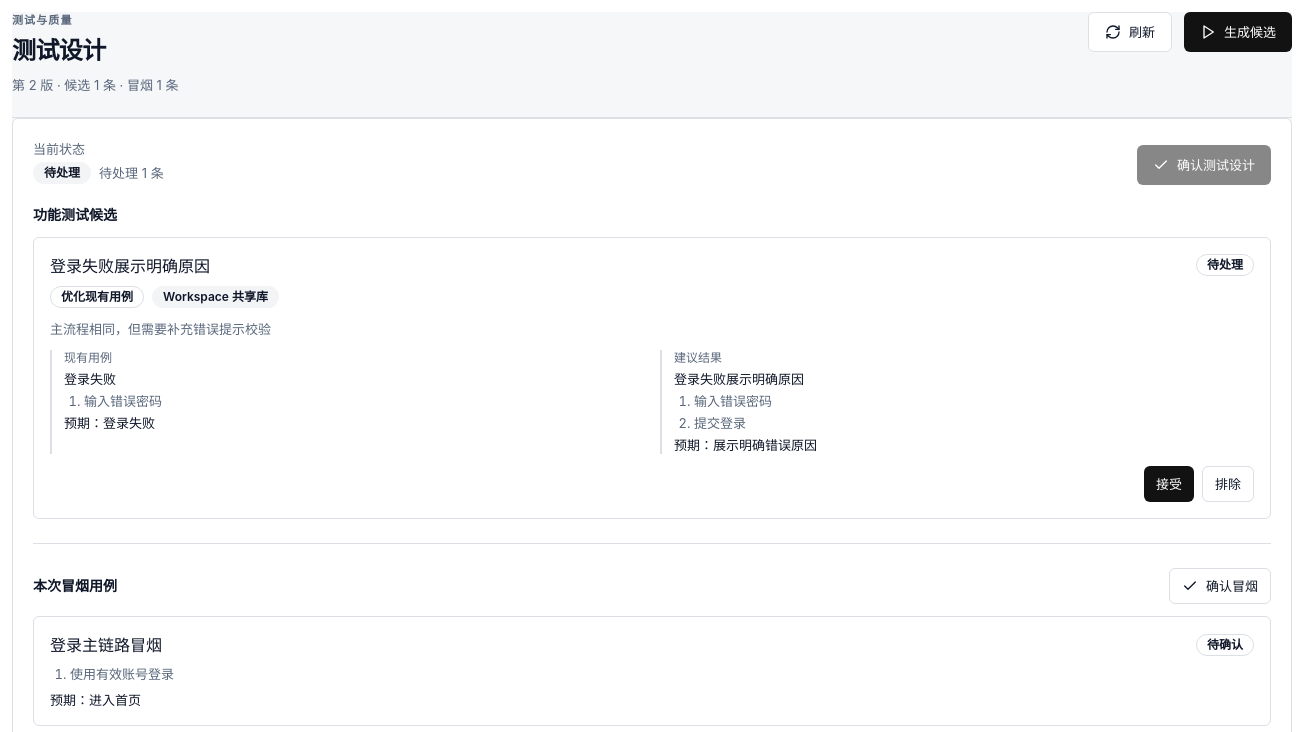
Test: QualityTestDesignPage › confirms persisted smoke cases without sending read-only database fields
Click the button "确认冒烟".
click(1220, 586)  # box x1=1169 y1=568 x2=1271 y2=604
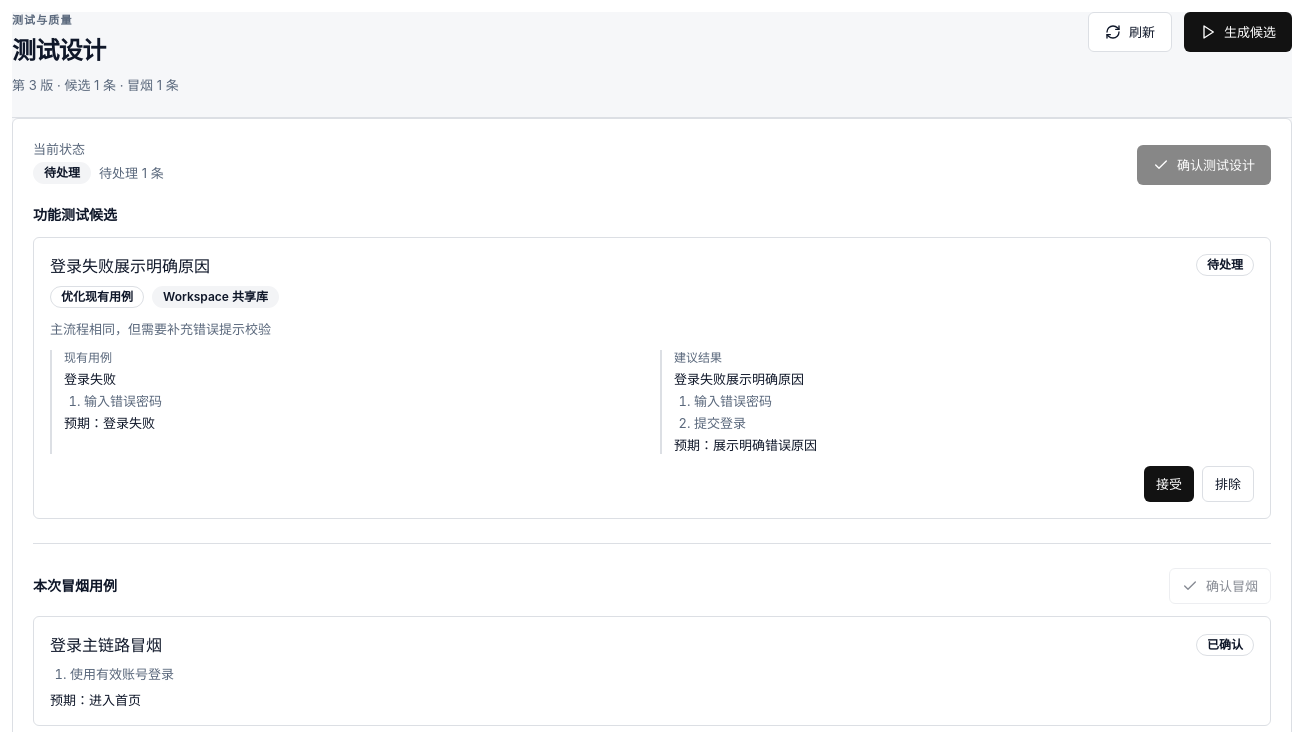
Result: the button "确认冒烟" is disabled at x1=1169 y1=568 x2=1271 y2=604
Result: the text "第 3 版" is shown at x1=12 y1=76 x2=179 y2=92
